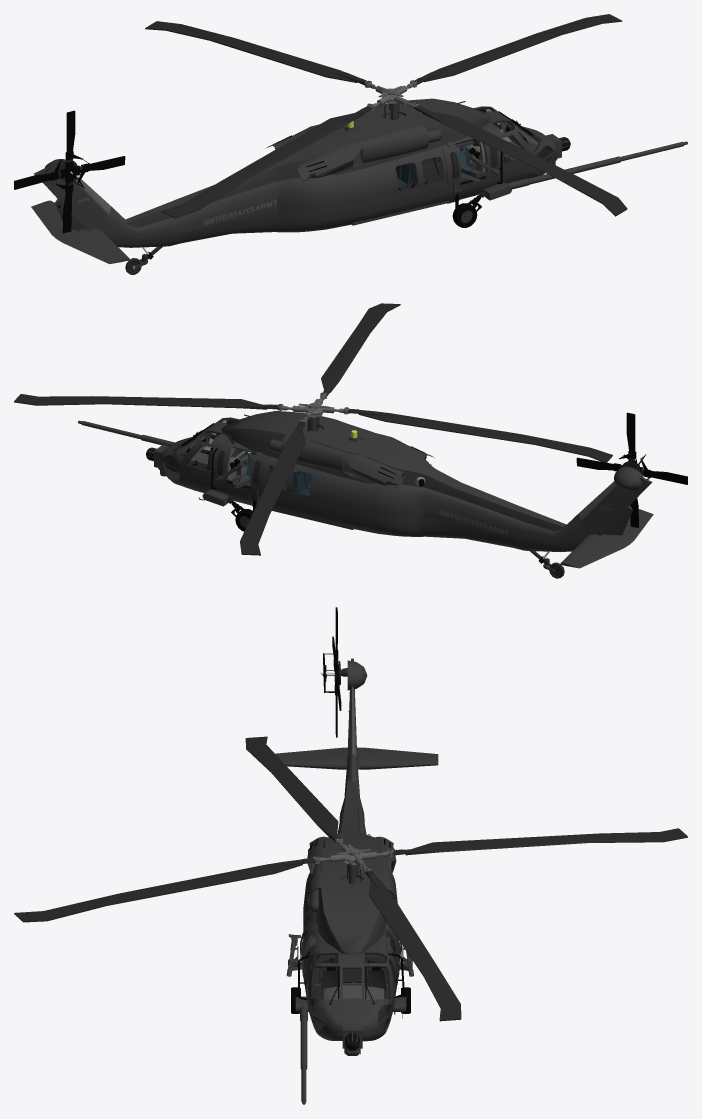
File: a400dmh601.glb
3 views of the same model, one above another, from view 1: azimuth 30°, elevation 25°; view 2: azimuth 150°, elevation 25°; view 3: azimuth 270°, elevation 25° (orthographic). The views are drawn at different scales.
Visible parts, largest first — view 1: Plane, Cube, Circle.094, 円柱.002; view 2: Plane, Cube, Circle.094, 円柱.002; view 3: Plane, Cube, 円柱.002, Circle.094.
Part boxes in pixels (box(x1,y1,x2,y2)): Plane: box(31, 98, 556, 274); Cube: box(145, 14, 627, 218); Circle.094: box(14, 110, 125, 233); 円柱.002: box(502, 134, 620, 189); Plane: box(159, 411, 653, 578); Cube: box(14, 303, 612, 555); Circle.094: box(576, 412, 687, 527); 円柱.002: box(141, 434, 208, 476); Plane: box(275, 658, 438, 1041); Cube: box(14, 736, 687, 1021); 円柱.002: box(300, 1002, 362, 1069); Circle.094: box(320, 607, 347, 737).
Size of the model in its own units: 17.91 by 4.99 by 14.74.
Materials: 28 (2 with a texture image).
